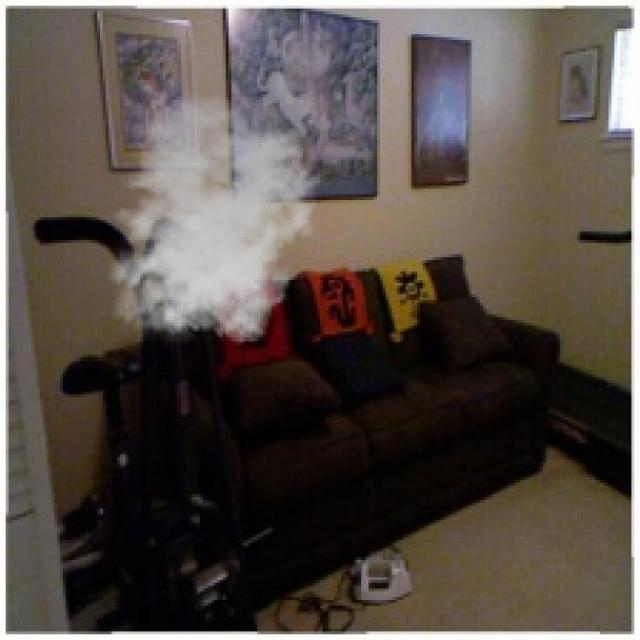smoke: (97, 95, 323, 352)
